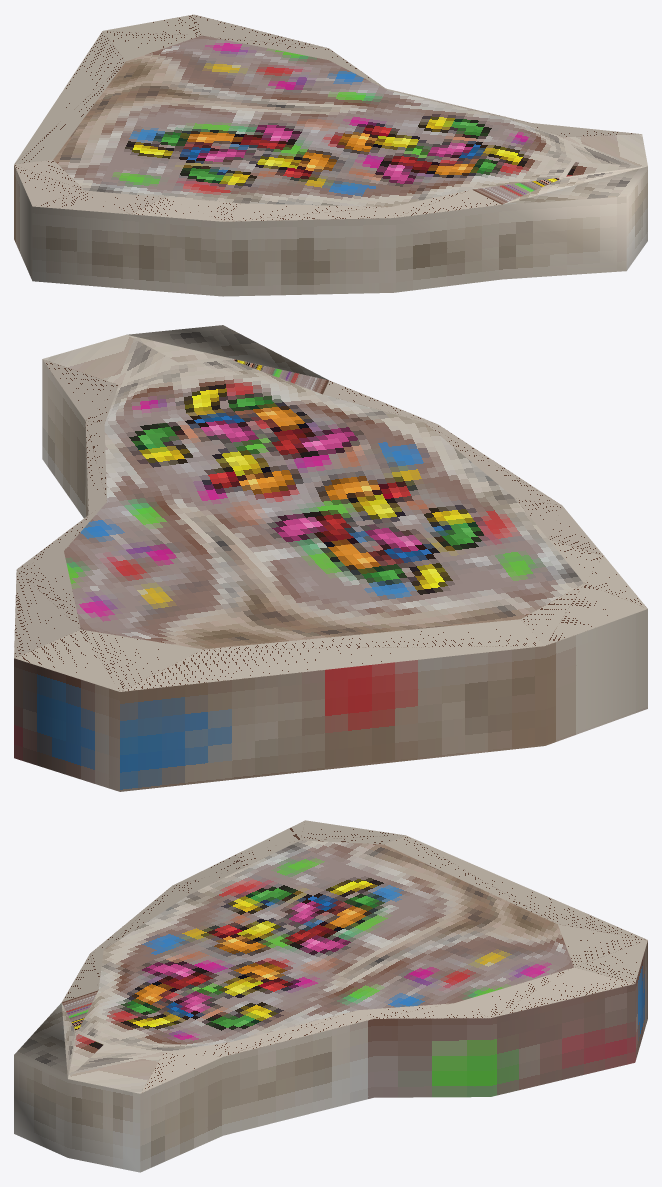
The model's file is WorldItem_MilkSteakJB.fbx.
3 views of the same model, one above another, from view 1: azimuth 30°, elevation 25°; view 2: azimuth 150°, elevation 25°; view 3: azimuth 270°, elevation 25° (orthographic). The views are drawn at different scales.
Parts seen in each view (by area): view 1: Steak; view 2: Steak; view 3: Steak.
Part boxes in pixels (x1=…): Steak: x1=14, y1=14, x2=647, y2=296; Steak: x1=14, y1=325, x2=647, y2=791; Steak: x1=14, y1=820, x2=647, y2=1172.
Size of the model in its own units: 42.39 by 6.11 by 41.53.
